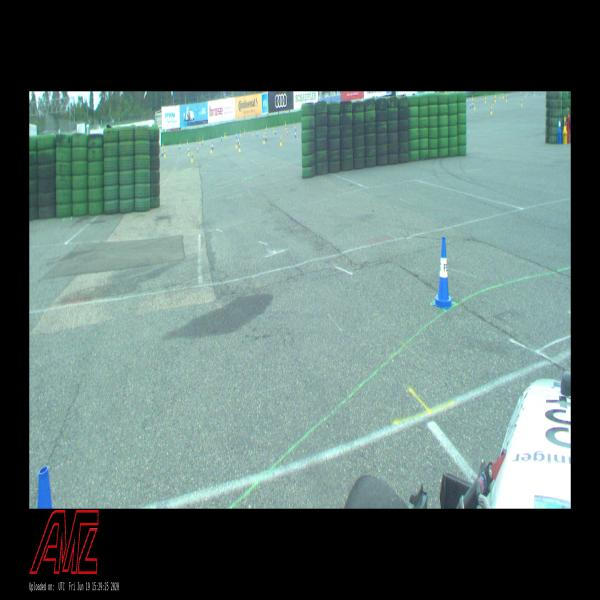blue_cone: (433, 237, 453, 310), (558, 117, 561, 132)
yellow_cone: (563, 116, 567, 132), (238, 142, 241, 152), (490, 107, 493, 114), (191, 152, 193, 162), (280, 136, 282, 146), (263, 136, 265, 144), (235, 140, 237, 148), (210, 145, 212, 153)
